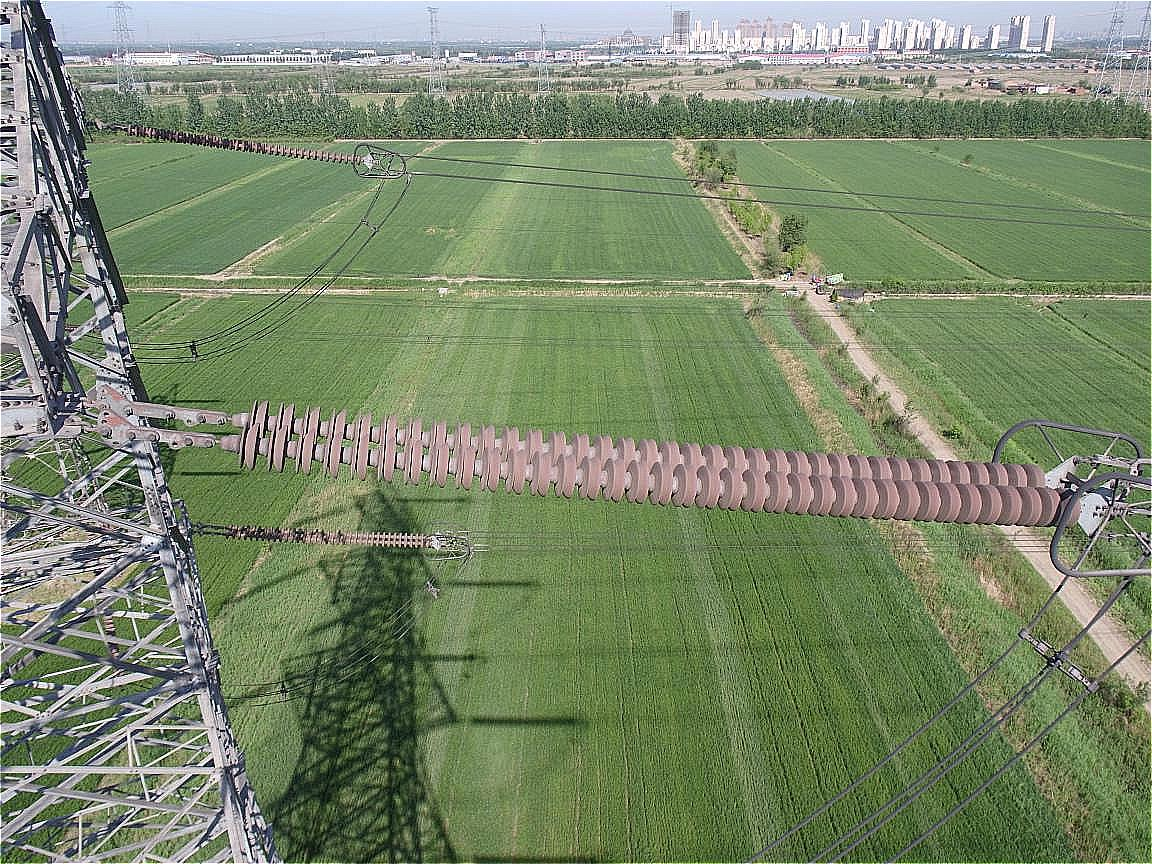insultor1: (120, 114, 378, 178), (230, 525, 430, 554)
insultor2: (210, 391, 1073, 541)
